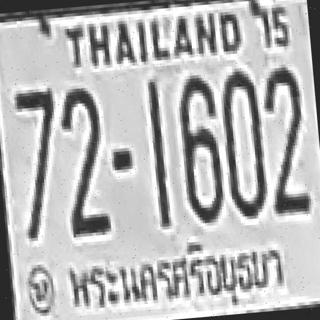N00: (218, 67, 267, 218)
N01: (145, 79, 168, 209)
N02: (57, 84, 106, 222), (261, 65, 308, 200), (57, 86, 106, 212)
N06: (175, 72, 226, 223)
N07: (14, 88, 63, 220), (14, 88, 60, 190), (14, 86, 59, 177)
P03: (62, 235, 291, 320)
